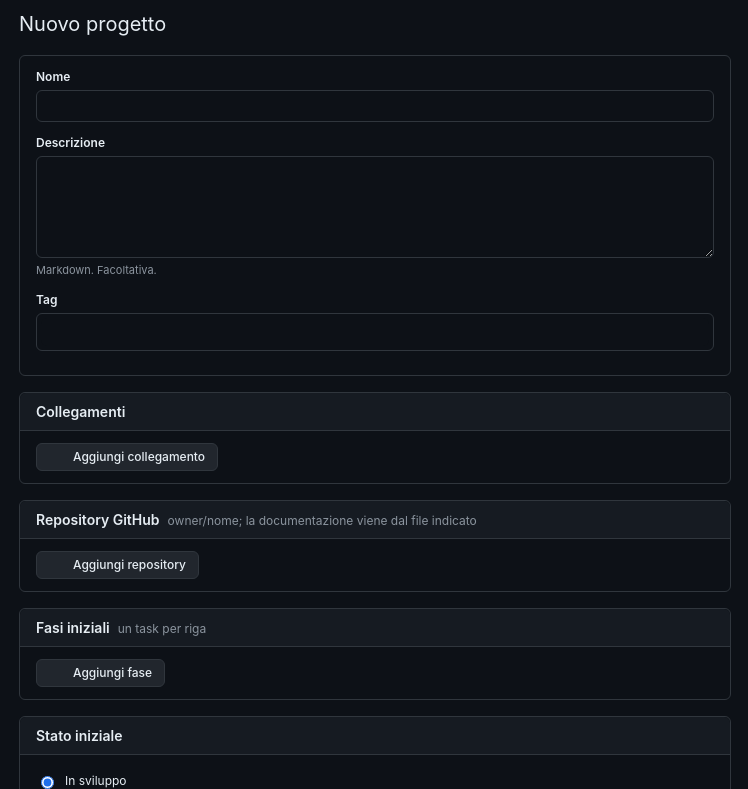
Scenario: verifyA2: new project › tasks under an untitled phase show a message and send nothing
In the field labelled "Nome": {"x": 375, "y": 106} [36, 90, 714, 122], type "Stazione meteo"
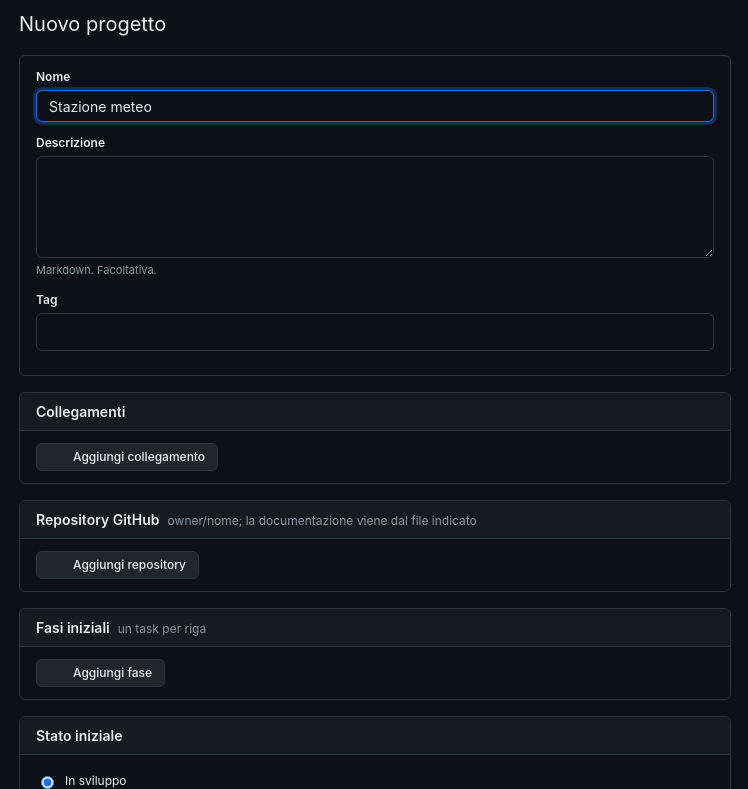
Click the button "Aggiungi fase": {"x": 101, "y": 672} [36, 658, 165, 686]
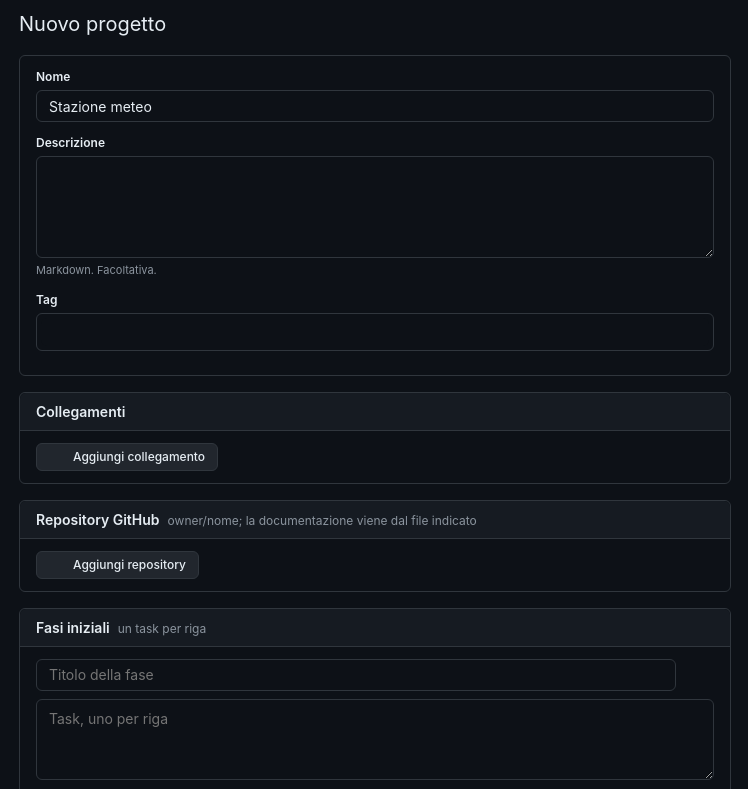
In the text box labelled "Task, uno per riga": {"x": 375, "y": 739} [36, 698, 714, 780], type "Schema"
(page scrolled)
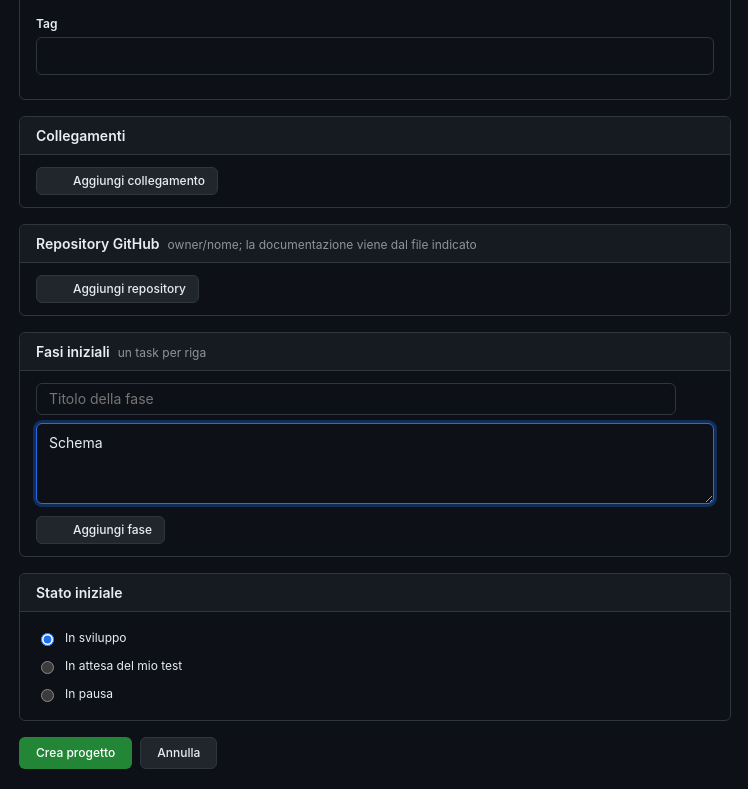
Click the button "Crea progetto": {"x": 76, "y": 752} [19, 736, 132, 768]
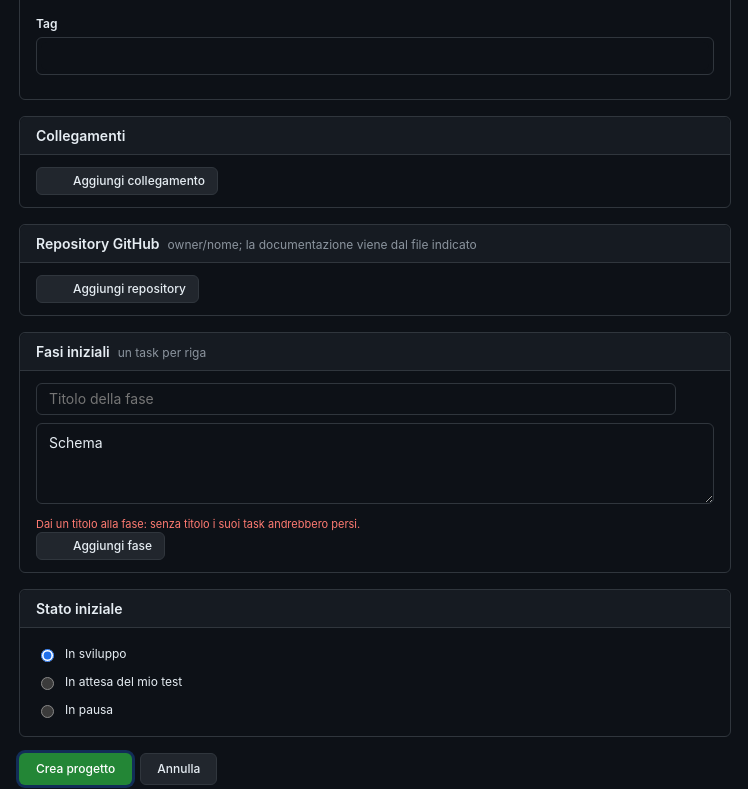
Expected: the text "Dai un titolo alla fase: senza titolo i suoi task andrebbero persi." is shown, [36, 516, 360, 530]
